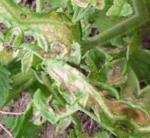Tomato leaf mosaic virus: (40, 54, 125, 117)
